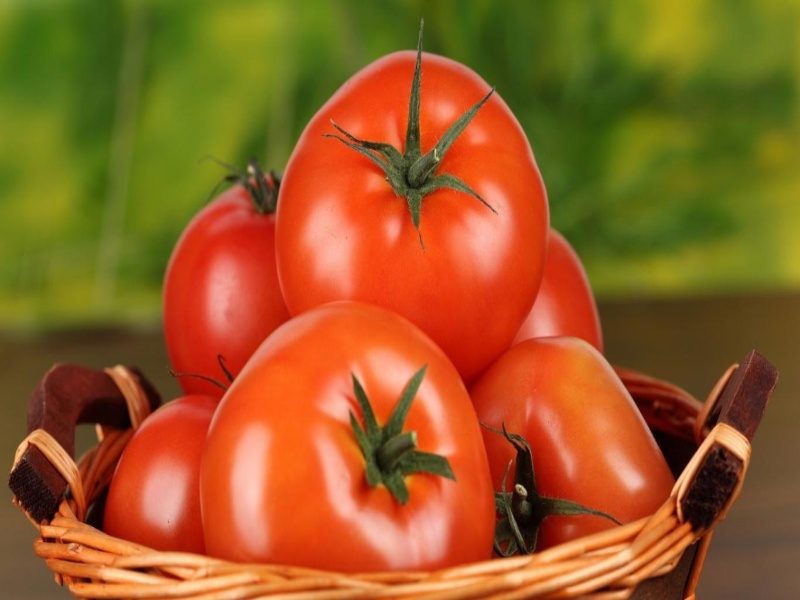Tomate: (279, 52, 549, 384), (201, 302, 496, 570), (470, 335, 683, 552), (162, 173, 329, 408), (104, 393, 251, 558), (510, 229, 613, 372)
